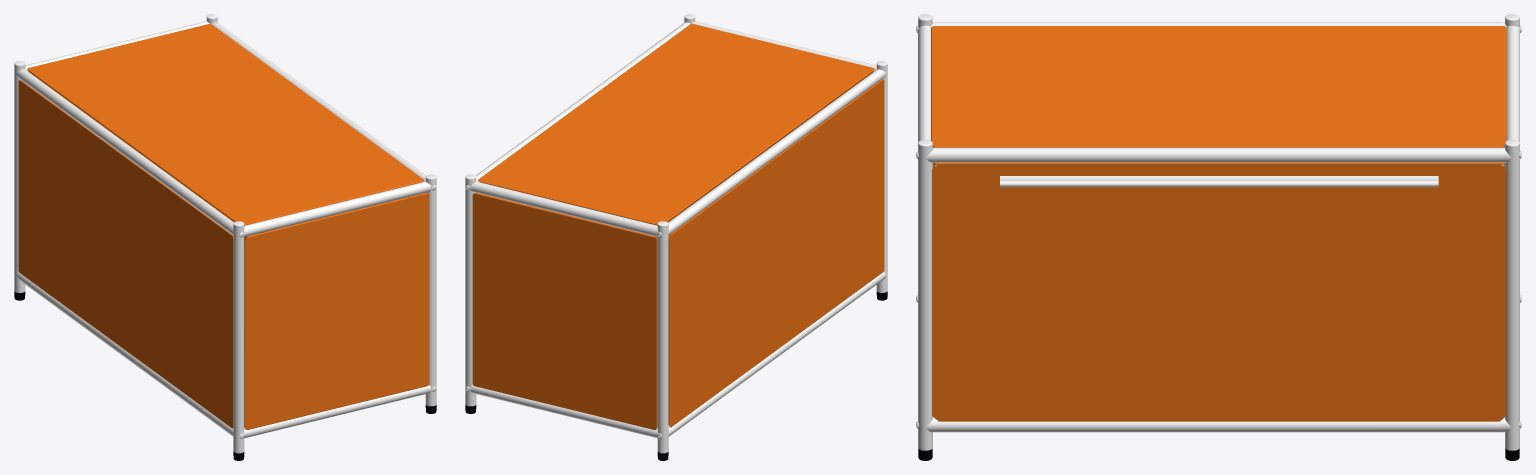
File: 80x40x40-1-4-Orange_optimized.glb
3 views of the same model, side by side, from view 1: azimuth 30°, elevation 25°; view 2: azimuth 150°, elevation 25°; view 3: azimuth 270°, elevation 25° (orthographic). The views are drawn at different scales.
Visible parts, largest first — view 1: 直角鐵板-80x40-3 - 零件, 鐵管-1層-40-正常腳-32mm-4 - 零件; view 2: 直角鐵板-80x40-3 - 零件, 鐵管-1層-40-正常腳-32mm-4 - 零件; view 3: 直角鐵板-80x40-3 - 零件, 鐵管-1層-40-正常腳-32mm-4 - 零件.
Boxes of the visible parts, left/top/right/bottom form: 直角鐵板-80x40-3 - 零件: left=18, top=23, right=429, bottom=429; 鐵管-1層-40-正常腳-32mm-4 - 零件: left=14, top=14, right=436, bottom=453; 直角鐵板-80x40-3 - 零件: left=472, top=23, right=884, bottom=429; 鐵管-1層-40-正常腳-32mm-4 - 零件: left=465, top=14, right=887, bottom=453; 直角鐵板-80x40-3 - 零件: left=931, top=26, right=1506, bottom=421; 鐵管-1層-40-正常腳-32mm-4 - 零件: left=916, top=14, right=1521, bottom=450.
Bounding box in the file's own units: 0.4198 × 0.4453 × 0.7732.
